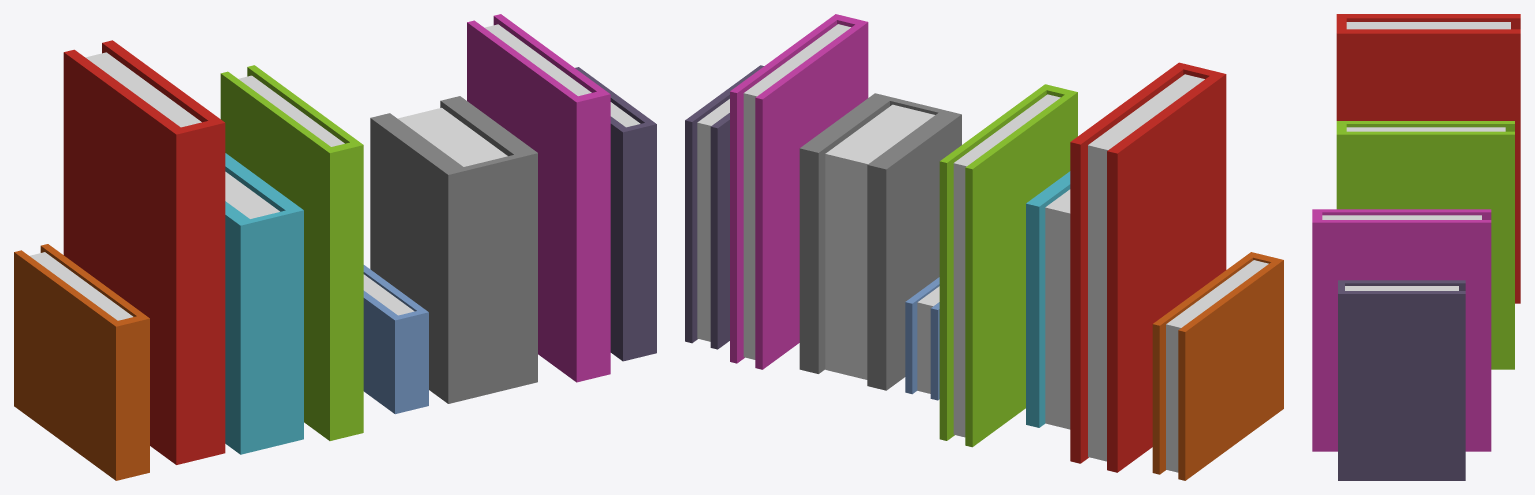
The model's file is book cluster.fbx.
3 renders of one model, left to right at view 1: azimuth 30°, elevation 25°; view 2: azimuth 150°, elevation 25°; view 3: azimuth 270°, elevation 25°, orthographic. The views are drawn at different scales.
Visible parts, largest first — view 1: Cube.024, Cube.010, Cube.005, Cube.012, Cube.031, Cube.019, Cube.023, Cube.002; view 2: Cube.024, Cube.010, Cube.012, Cube.005, Cube.031, Cube.023, Cube.019, Cube.002; view 3: Cube.023, Cube.005, Cube.024, Cube.012.
Boxes of the visible parts, x1,y1,x2,y2 form: Cube.024: (63, 40, 225, 464); Cube.010: (370, 96, 537, 403); Cube.005: (467, 14, 610, 382); Cube.012: (220, 65, 363, 440); Cube.031: (14, 244, 149, 480); Cube.019: (225, 153, 303, 454); Cube.023: (575, 67, 656, 361); Cube.002: (363, 265, 428, 414); Cube.024: (1070, 62, 1226, 472); Cube.010: (799, 93, 961, 390); Cube.012: (939, 84, 1077, 447); Cube.005: (730, 14, 868, 369); Cube.031: (1152, 252, 1283, 480); Cube.023: (685, 65, 763, 349); Cube.019: (1026, 171, 1070, 429); Cube.002: (905, 277, 939, 400); Cube.023: (1338, 280, 1465, 480); Cube.005: (1312, 209, 1491, 451); Cube.024: (1336, 14, 1520, 303); Cube.012: (1336, 121, 1514, 369).
Size of the model in its own units: 507 by 308 by 207.
